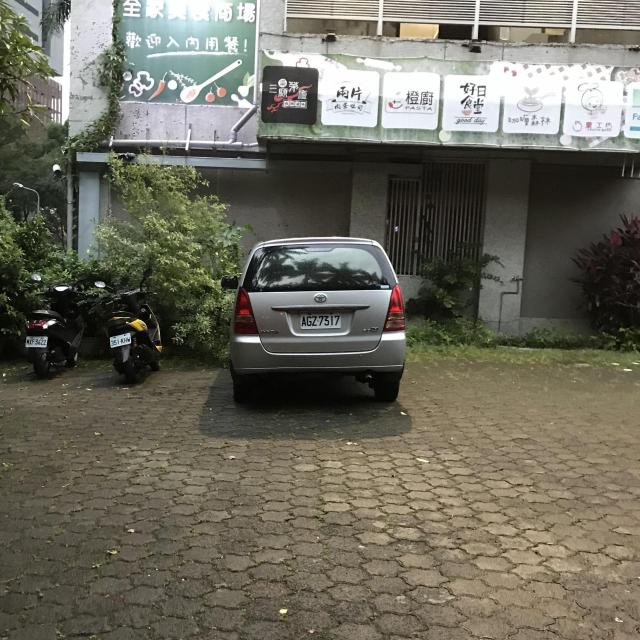W: (297, 310, 342, 330), (106, 331, 134, 348), (22, 333, 50, 349)
